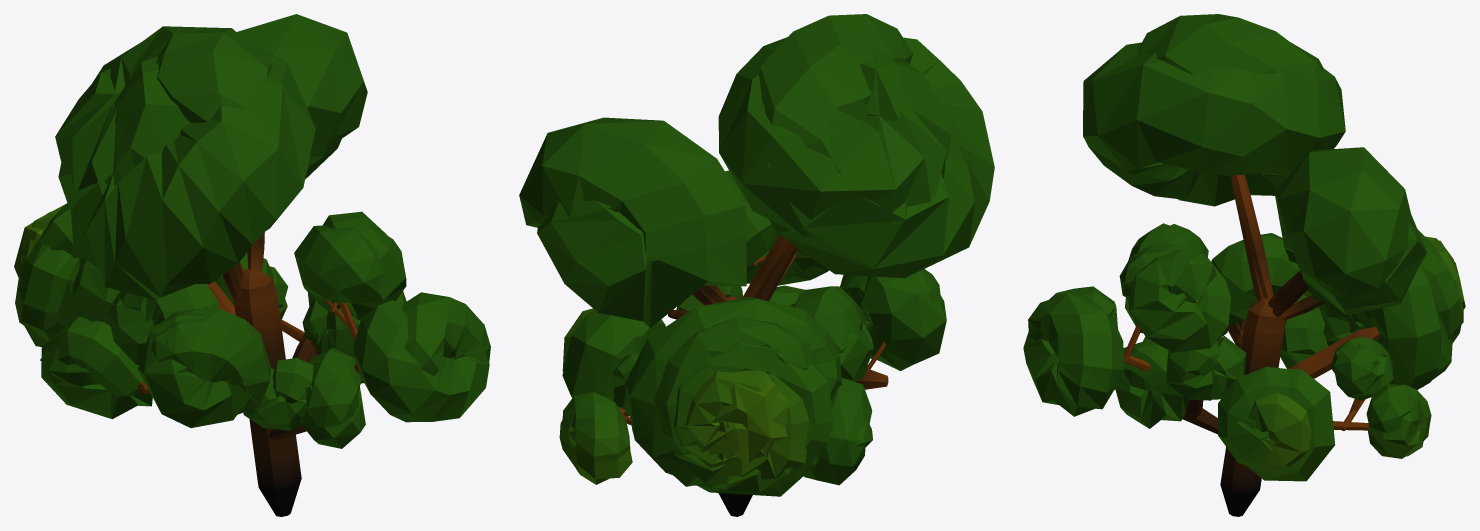
The model's file is Tree3.fbx.
3 views of the same model, side by side, from view 1: azimuth 30°, elevation 25°; view 2: azimuth 150°, elevation 25°; view 3: azimuth 270°, elevation 25° (orthographic). The views are drawn at different scales.
Parts seen in each view (by area): view 1: Bush, Tronc; view 2: Bush, Tronc; view 3: Bush, Tronc.
Boxes of the visible parts, bbox=[...] form: Bush: bbox=[14, 14, 490, 448]; Tronc: bbox=[138, 232, 359, 516]; Bush: bbox=[519, 14, 994, 496]; Tronc: bbox=[618, 235, 888, 516]; Bush: bbox=[1023, 14, 1465, 481]; Tronc: bbox=[1123, 174, 1379, 516].
Size of the model in its own units: 0.5259 by 0.7058 by 0.618.
